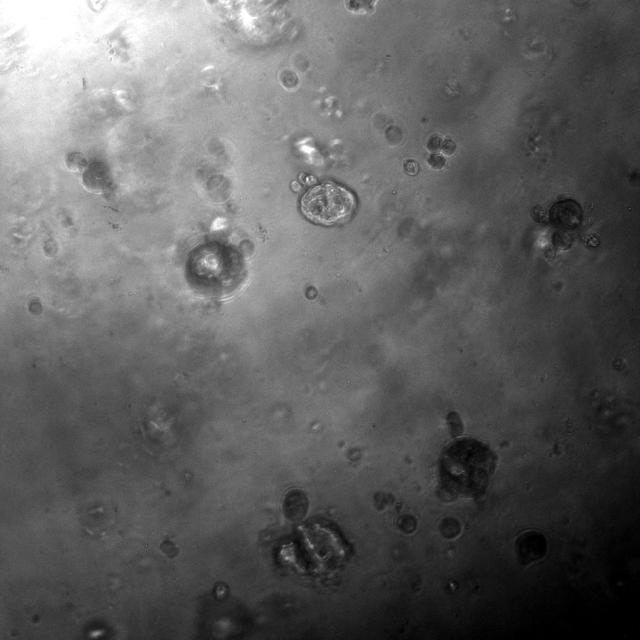organoid: (436, 410, 497, 502), (272, 517, 353, 585), (184, 231, 255, 300), (289, 171, 358, 227), (531, 196, 584, 259), (66, 152, 117, 199), (425, 134, 456, 170), (516, 531, 546, 565), (282, 488, 308, 521), (438, 516, 462, 540), (278, 68, 299, 91), (396, 513, 417, 534), (384, 122, 403, 145), (344, 0, 377, 13), (373, 491, 394, 510), (159, 539, 178, 558), (212, 581, 229, 601), (403, 158, 419, 176), (28, 297, 42, 315), (304, 285, 319, 301), (584, 234, 600, 248)
